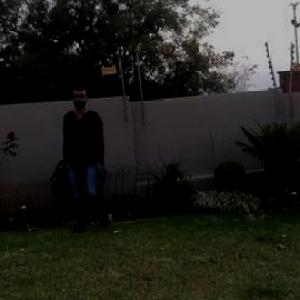follow: (72, 82, 124, 241)
